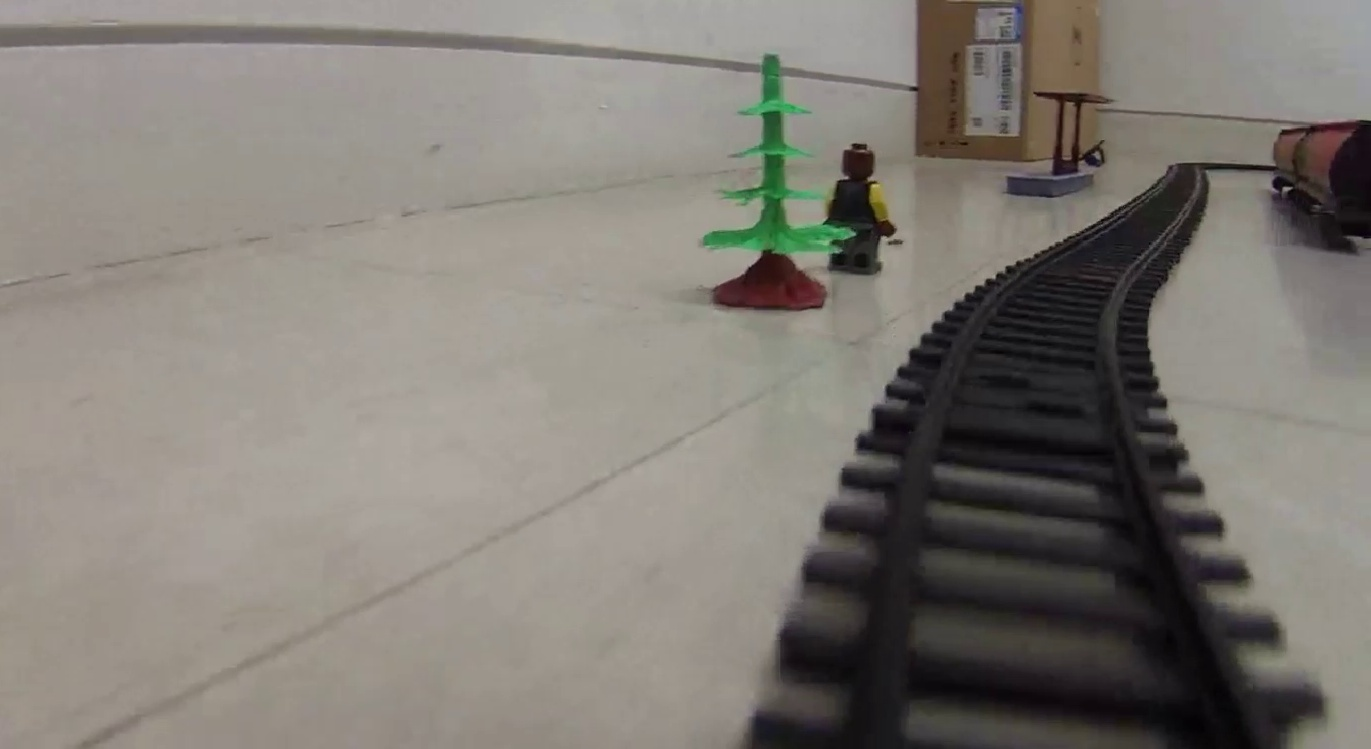people: (827, 141, 895, 269)
tree: (696, 55, 836, 310)
